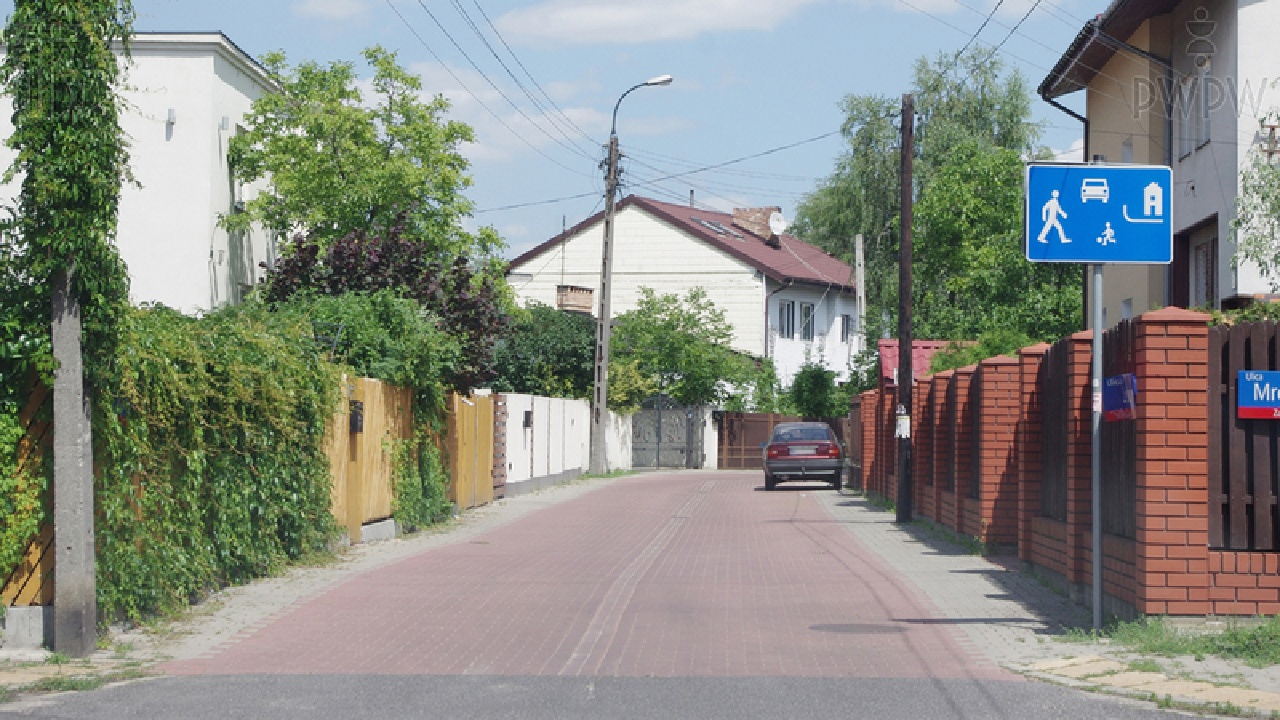D40: (1025, 162, 1176, 265)
